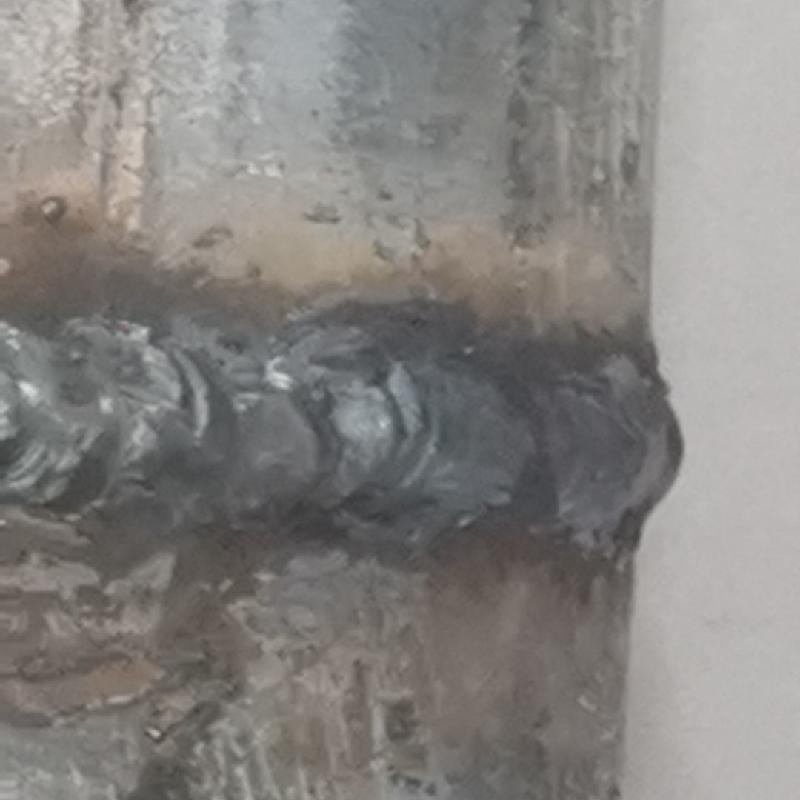good: (3, 279, 683, 563)
